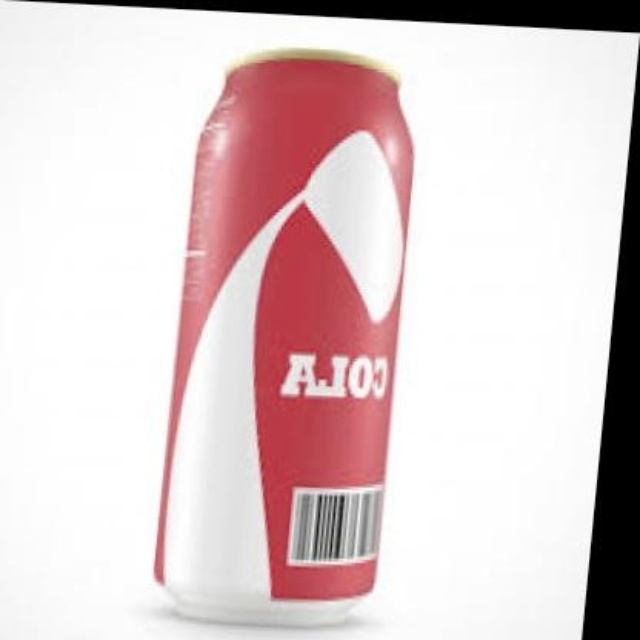trash: (154, 52, 412, 623)
